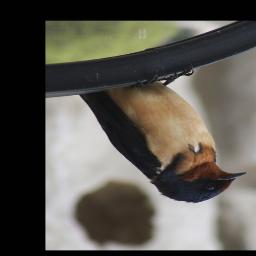Swallow: (75, 64, 248, 205)
